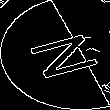N_E: (11, 27, 99, 83)
